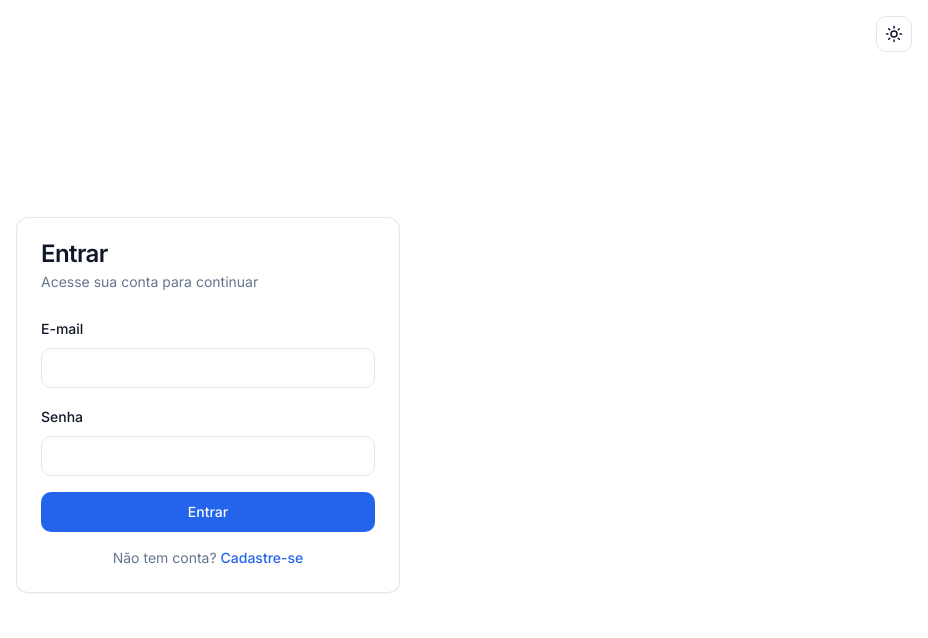
it: LoginPage (AC-006) › valida inline e-mail inválido e senha curta
Type "demo" into the field labelled "E-mail".
click(208, 368); type("demo")  # box top-left (41, 348), bottom-right (375, 388)
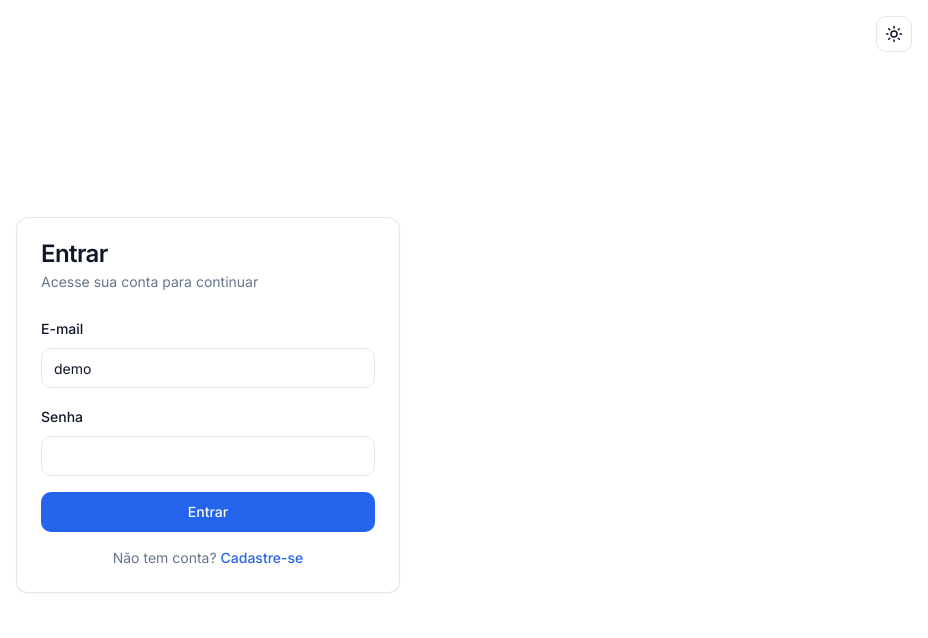
Type "123" into the password field labelled "Senha".
click(208, 456); type("123")  # box top-left (41, 436), bottom-right (375, 476)
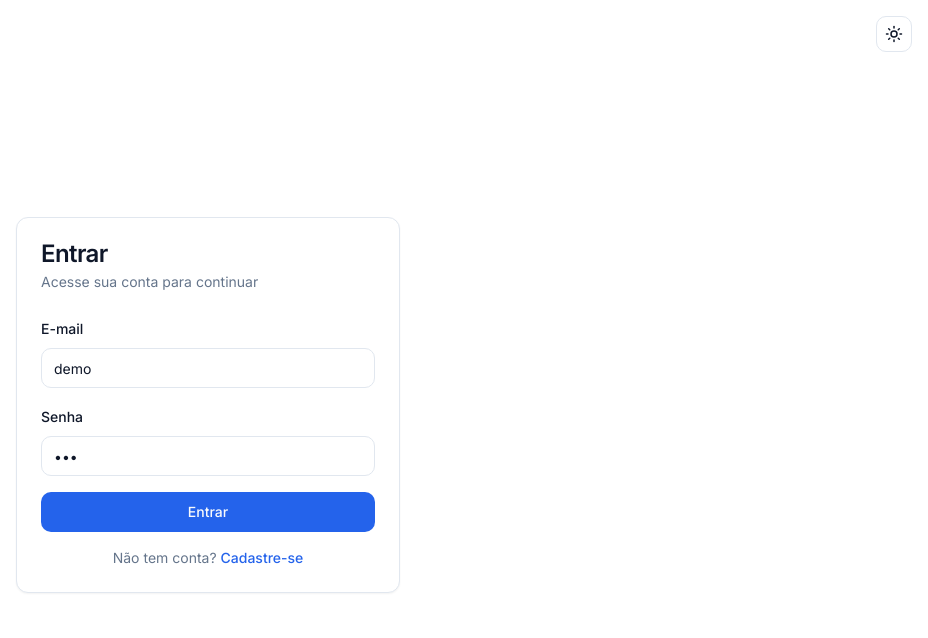
Click the button "Entrar".
click(208, 512)  # box top-left (41, 492), bottom-right (375, 532)
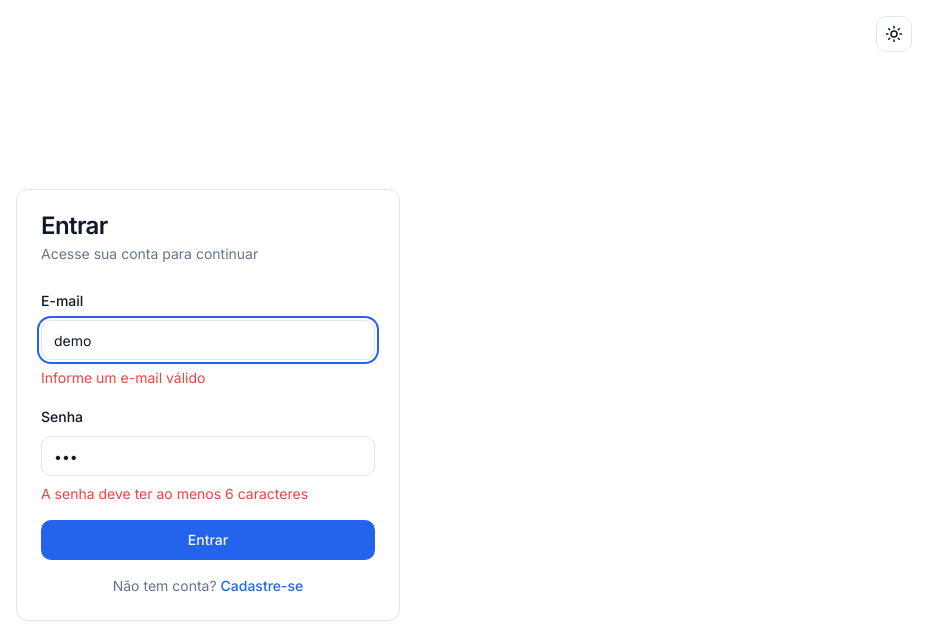
Expected: the text "Informe um e-mail válido" is shown, top-left (41, 369), bottom-right (205, 386)
Expected: the text "A senha deve ter ao menos 6 caracteres" is shown, top-left (41, 485), bottom-right (308, 502)
